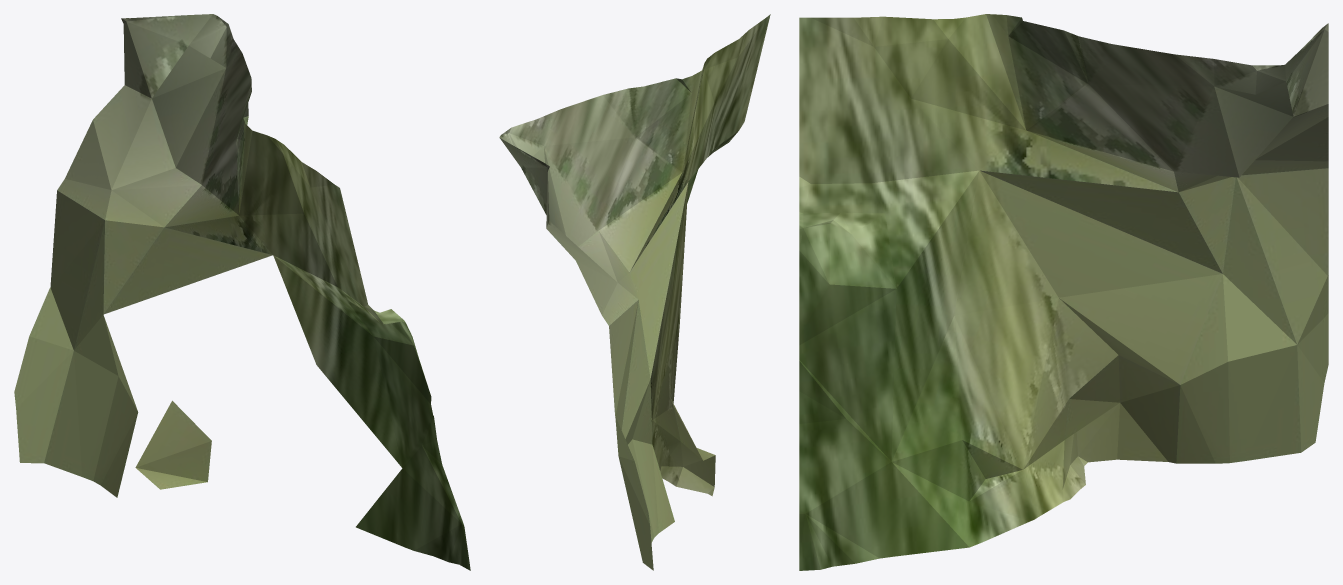
3 renders of one model, left to right at view 1: azimuth 30°, elevation 25°; view 2: azimuth 150°, elevation 25°; view 3: azimuth 270°, elevation 25°, orthographic. The views are drawn at different scales.
Size of the model in its own units: 1.69 by 2.95 by 2.95.
Materials: 3 (3 with a texture image).
